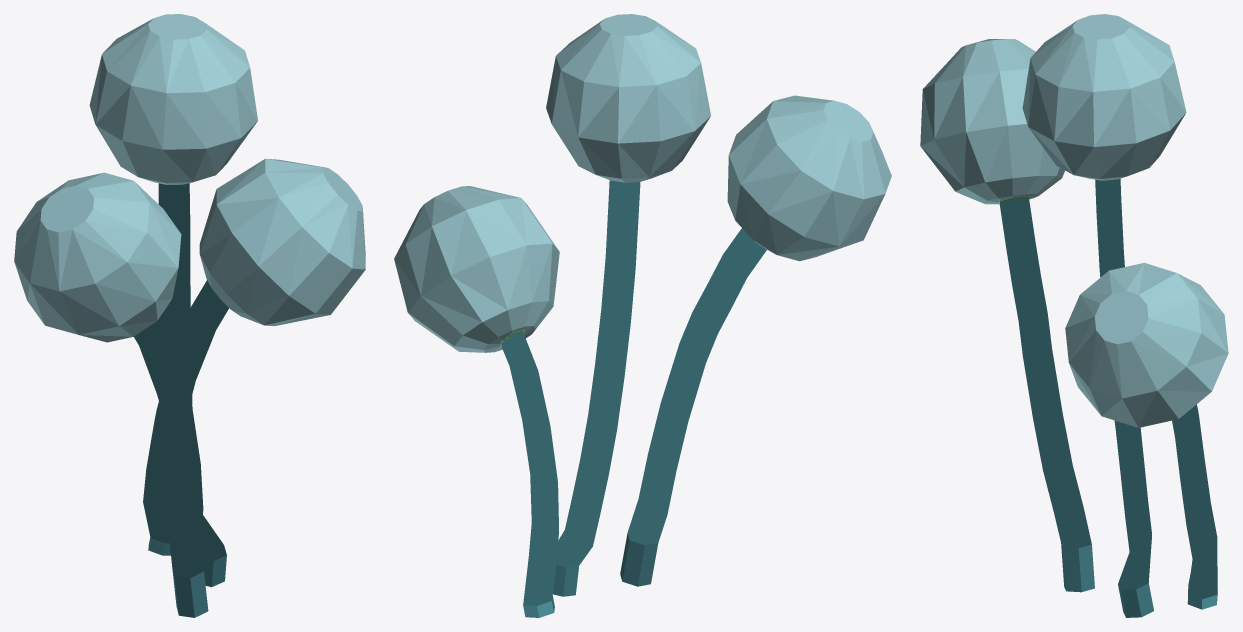
Rendered from flower3.glb.
3 views of the same model, side by side, from view 1: azimuth 30°, elevation 25°; view 2: azimuth 150°, elevation 25°; view 3: azimuth 270°, elevation 25° (orthographic). The views are drawn at different scales.
Parts seen in each view (by area): view 1: mesh_id5, mesh_id6; view 2: mesh_id5, mesh_id6; view 3: mesh_id5, mesh_id6.
Part boxes in pixels (x1,y1,x2,y2): mesh_id5: (14,14,365,342); mesh_id6: (134,183,228,617); mesh_id5: (394,14,891,352); mesh_id6: (501,180,766,617); mesh_id5: (920,14,1228,427); mesh_id6: (999,178,1217,617).
Size of the model in its own units: 0.3749 by 0.5122 by 0.2517.
Materials: 2 (2 with a texture image).
